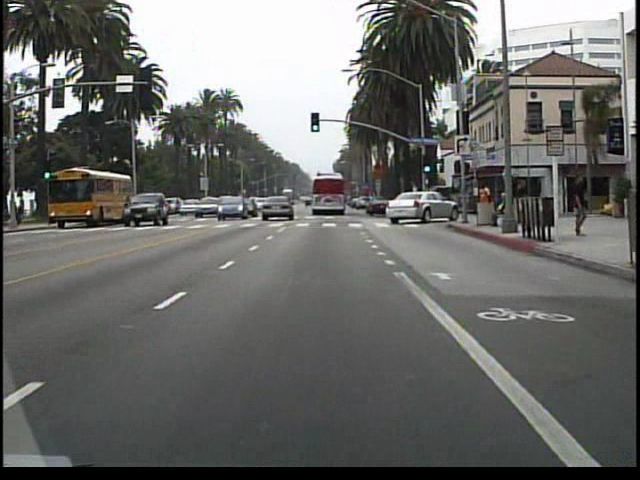person: (565, 169, 592, 240), (514, 178, 532, 228), (475, 181, 493, 224)
